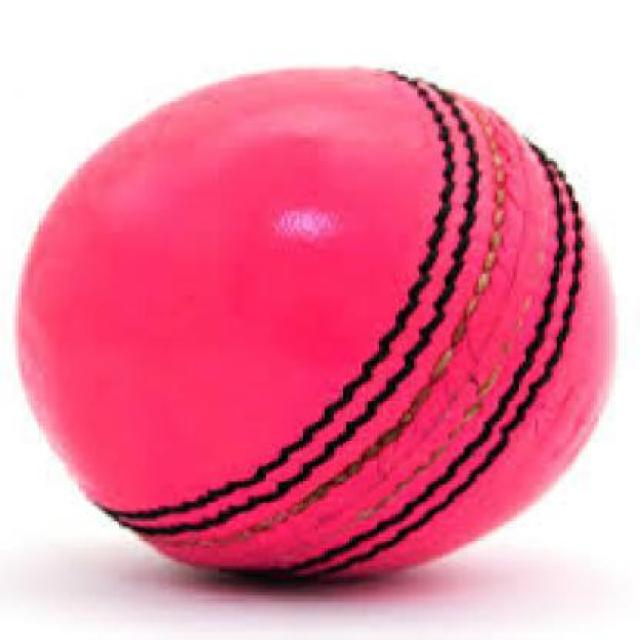ball: (12, 44, 640, 594)
